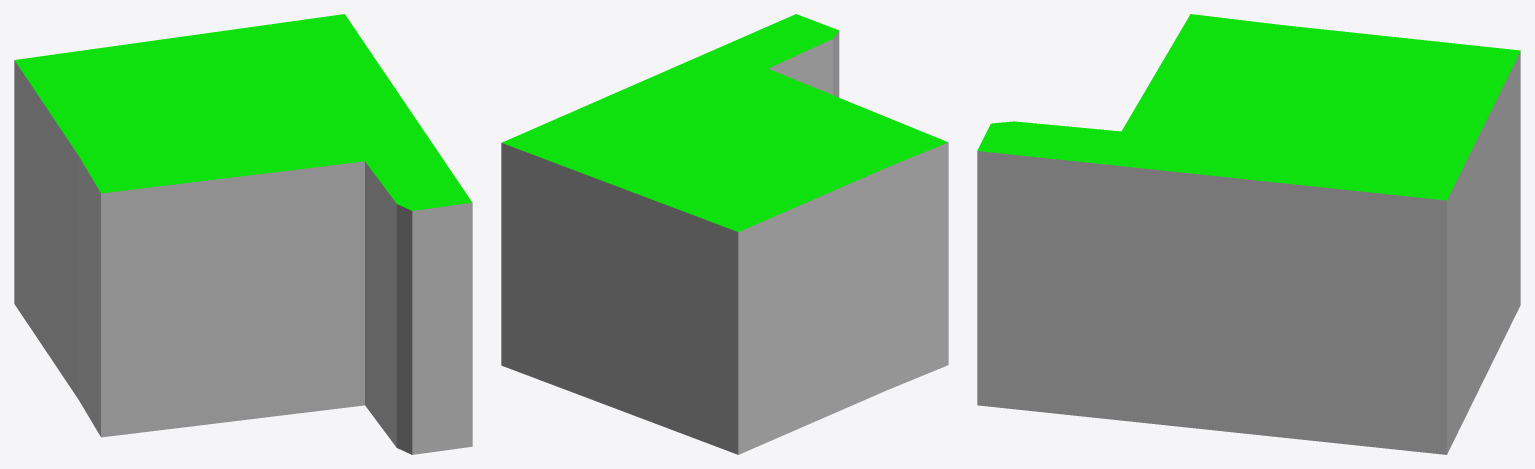
The model's file is DEHB01ALn0001OjK.dae.
3 renders of one model, left to right at view 1: azimuth 30°, elevation 25°; view 2: azimuth 150°, elevation 25°; view 3: azimuth 270°, elevation 25°, orthographic. The views are drawn at different scales.
Size of the model in its own units: 6.14 by 7.56 by 3.9.
